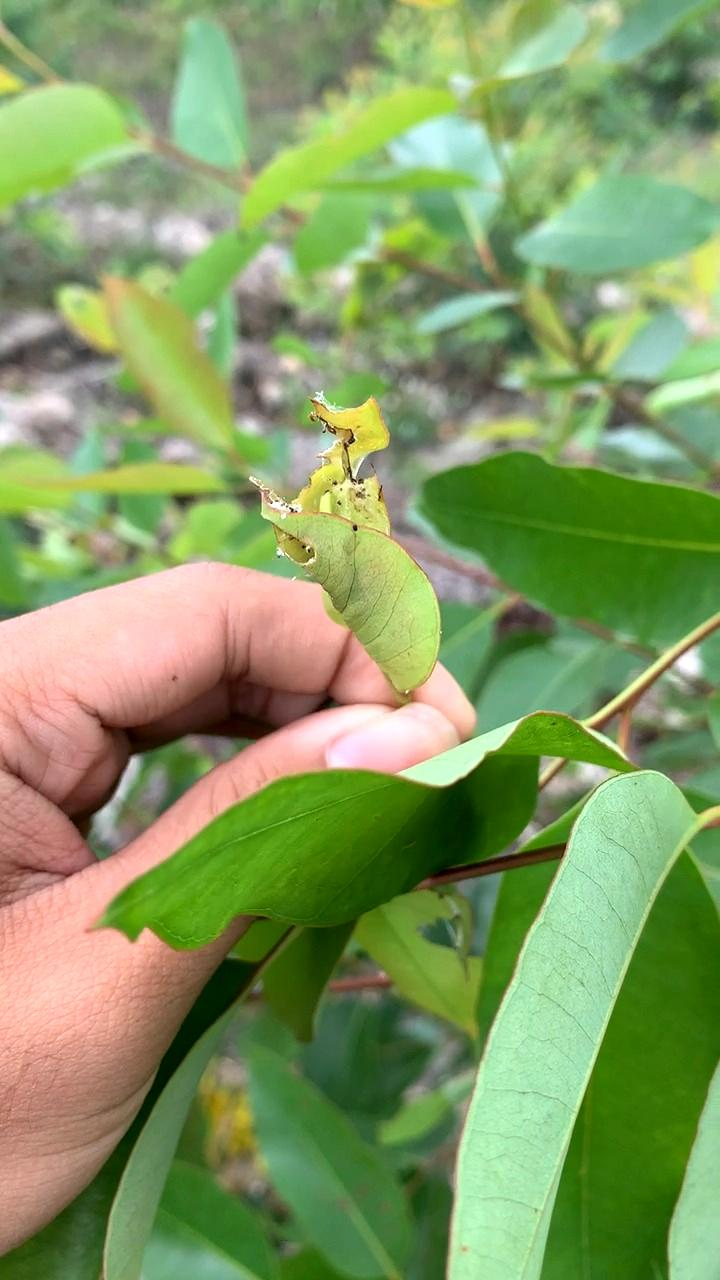Leaf Roller - Leaf: (256, 398, 471, 675)
